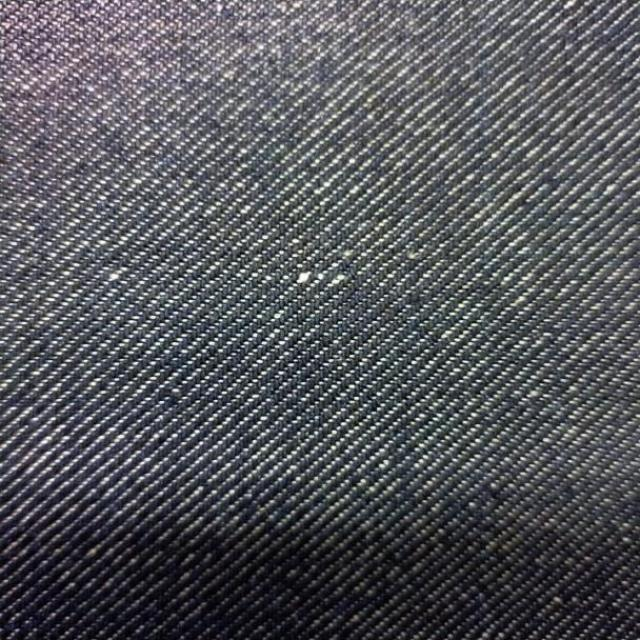Knot: (296, 272, 348, 288)
